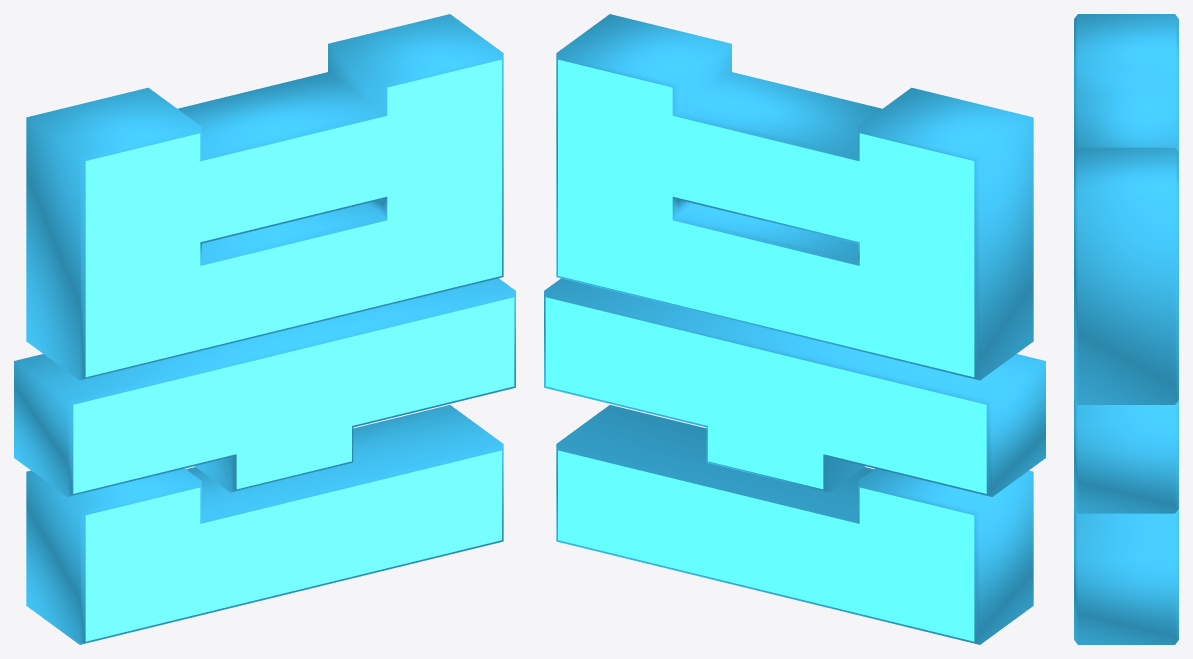
The picture shows the model from 3 angles, left to right: view 1: azimuth 30°, elevation 25°; view 2: azimuth 150°, elevation 25°; view 3: azimuth 270°, elevation 25°; orthographic projection. The views are drawn at different scales.
Parts seen in each view (by area): view 1: glyph; view 2: glyph; view 3: glyph.
Boxes of the visible parts, <box> form: glyph: <box>14,14,515,644</box>; glyph: <box>544,14,1045,644</box>; glyph: <box>1074,14,1178,644</box>.
Size of the model in its own units: 0.0725 by 0.0755 by 0.0162.
